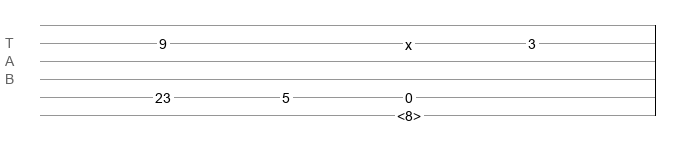0: (405, 90, 413, 100)
23: (155, 90, 171, 100)
3: (528, 36, 536, 46)
5: (282, 90, 290, 100)
9: (159, 36, 167, 46)
harmonic: (397, 108, 421, 118)
x: (405, 37, 412, 45)
